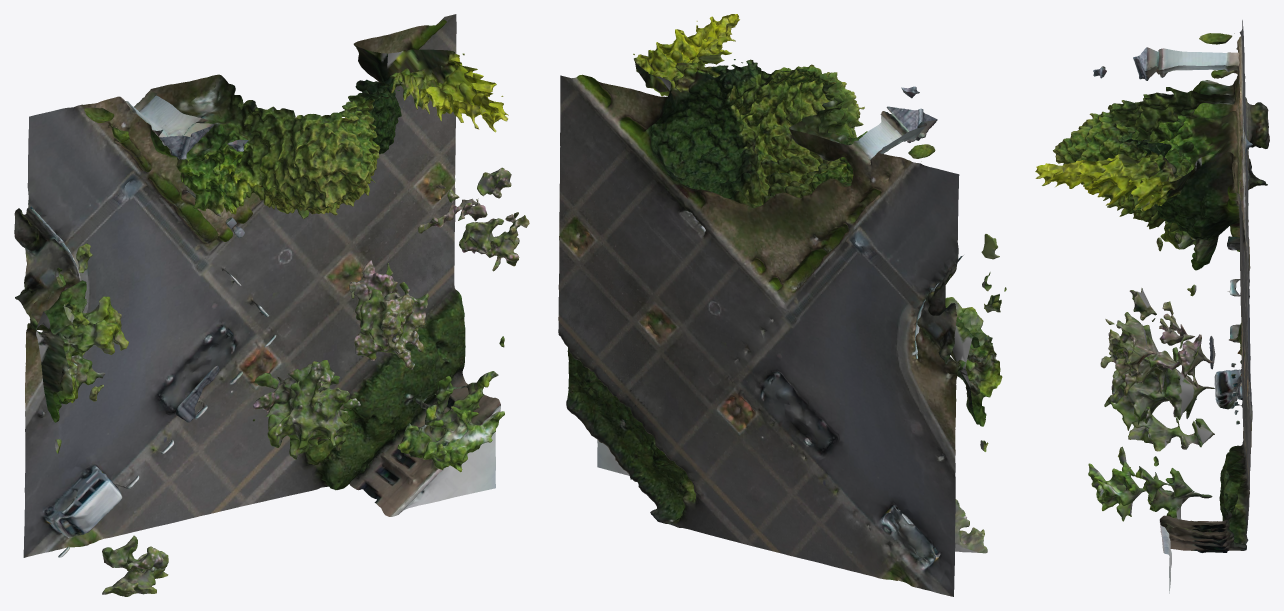
File: Tile_+009_+015.fbx
The picture shows the model from 3 angles, left to right: view 1: azimuth 30°, elevation 25°; view 2: azimuth 150°, elevation 25°; view 3: azimuth 270°, elevation 25°; orthographic projection. The views are drawn at different scales.
Visible parts, largest first — view 1: DefaultName; view 2: DefaultName; view 3: DefaultName.
Part boxes in pixels (left/top/right/bottom): DefaultName: left=14, top=14, right=529, bottom=596; DefaultName: left=558, top=14, right=1006, bottom=596; DefaultName: left=1035, top=20, right=1269, bottom=593.
Size of the model in its own units: 22.54 by 22.54 by 12.07.
